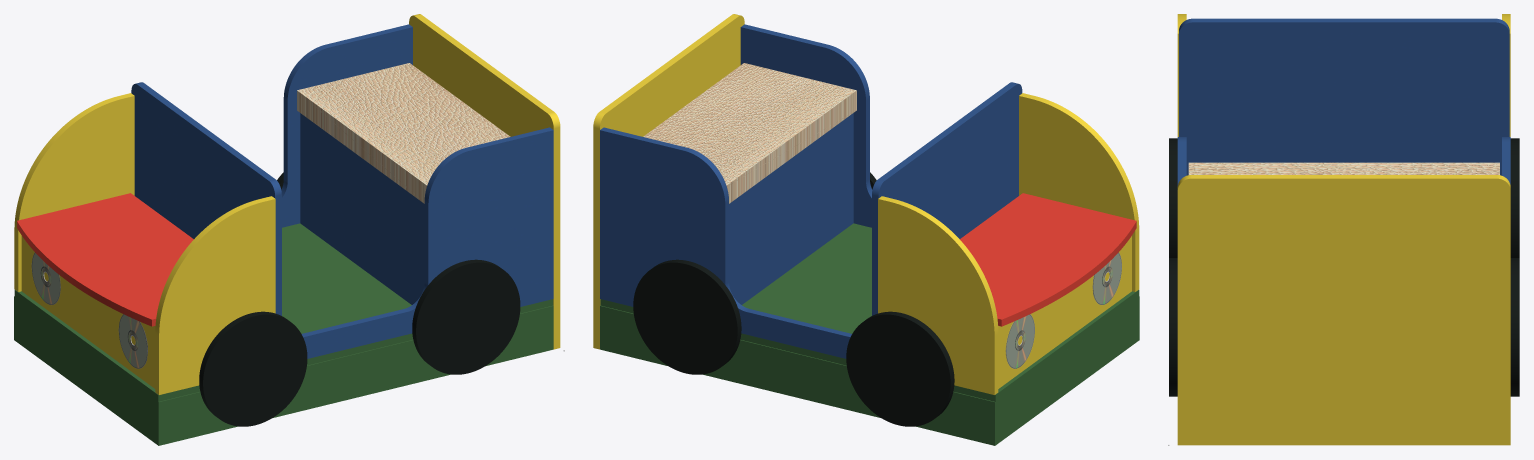
File: avtomobil.glb
3 renders of one model, left to right at view 1: azimuth 30°, elevation 25°; view 2: azimuth 150°, elevation 25°; view 3: azimuth 270°, elevation 25°, orthographic. The views are drawn at different scales.
Visible parts, largest first — view 1: Shape_IndexedFaceSet.010, Shape_IndexedFaceSet.004_NON, Shape_IndexedFaceSet.001, Shape_IndexedFaceSet.012, Shape_IndexedFaceSet.009, Shape_IndexedFaceSet.013, Shape_IndexedFaceSet.005, Shape_IndexedFaceSet.002, Shape_IndexedFaceSet.008, Shape_IndexedFaceSet.020, Shape_IndexedFaceSet.021, Shape_IndexedFaceSet (+5 smaller); view 2: Shape_IndexedFaceSet.011, Shape_IndexedFaceSet.004_NON, Shape_IndexedFaceSet.002, Shape_IndexedFaceSet.012, Shape_IndexedFaceSet.009, Shape_IndexedFaceSet.013, Shape_IndexedFaceSet.005, Shape_IndexedFaceSet.001, Shape_IndexedFaceSet.007, Shape_IndexedFaceSet.018, Shape_IndexedFaceSet.019, Shape_IndexedFaceSet (+5 smaller); view 3: Shape_IndexedFaceSet, Shape_IndexedFaceSet.013, Shape_IndexedFaceSet.004_NON, Shape_IndexedFaceSet.019, Shape_IndexedFaceSet.021, Shape_IndexedFaceSet.018, Shape_IndexedFaceSet.020, Shape_IndexedFaceSet.010, Shape_IndexedFaceSet.011.
Boxes of the visible parts, x1,y1,x2,y2 form: Shape_IndexedFaceSet.010: (301,127,553,358); Shape_IndexedFaceSet.004_NON: (297,63,510,203); Shape_IndexedFaceSet.001: (155,196,275,394); Shape_IndexedFaceSet.012: (300,113,424,304); Shape_IndexedFaceSet.009: (17,193,193,326); Shape_IndexedFaceSet.013: (131,82,281,315); Shape_IndexedFaceSet.005: (14,223,553,401); Shape_IndexedFaceSet.002: (14,93,134,291); Shape_IndexedFaceSet.008: (165,305,553,444); Shape_IndexedFaceSet.020: (199,311,307,426); Shape_IndexedFaceSet.021: (412,259,520,374); Shape_IndexedFaceSet: (409,14,560,349); Shape_IndexedFaceSet.011: (600,127,851,358); Shape_IndexedFaceSet.004_NON: (643,63,856,203); Shape_IndexedFaceSet.002: (878,196,998,394); Shape_IndexedFaceSet.012: (729,113,853,304); Shape_IndexedFaceSet.009: (960,193,1136,326); Shape_IndexedFaceSet.013: (872,82,1022,315); Shape_IndexedFaceSet.005: (600,223,1139,401); Shape_IndexedFaceSet.001: (1019,93,1139,291); Shape_IndexedFaceSet.007: (600,305,988,443); Shape_IndexedFaceSet.018: (846,311,954,426); Shape_IndexedFaceSet.019: (633,259,741,374); Shape_IndexedFaceSet: (593,14,744,349); Shape_IndexedFaceSet: (1177,175,1510,445); Shape_IndexedFaceSet.013: (1179,18,1509,175); Shape_IndexedFaceSet.004_NON: (1188,162,1499,174); Shape_IndexedFaceSet.019: (1510,258,1519,396); Shape_IndexedFaceSet.021: (1169,258,1177,396); Shape_IndexedFaceSet.018: (1510,138,1519,257); Shape_IndexedFaceSet.020: (1169,138,1177,257); Shape_IndexedFaceSet.010: (1177,137,1186,185); Shape_IndexedFaceSet.011: (1502,137,1510,184).
Size of the model in its own units: 1008 by 531 by 633.
Materials: 23 (22 with a texture image).
